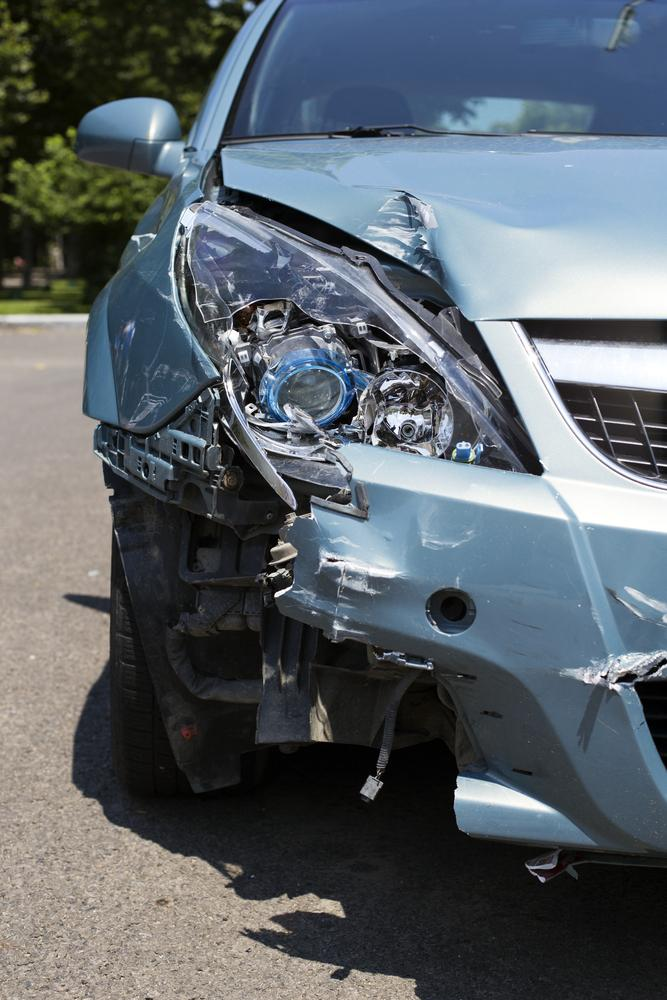crack: (602, 654, 667, 686)
dent: (330, 149, 585, 285)
lamp broken: (179, 191, 538, 469)
scratch: (305, 549, 409, 639), (599, 583, 667, 631)
